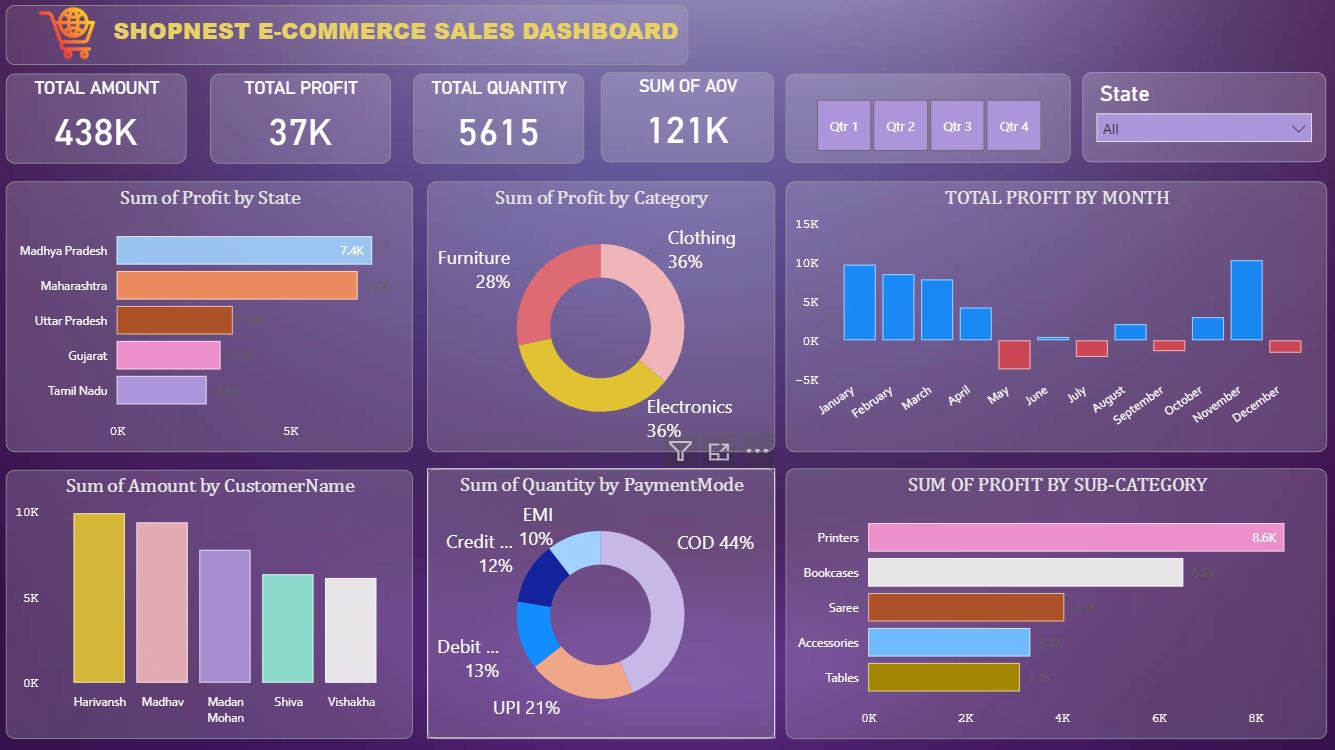

This screenshot's page, from the dashboard's own definition file:
{"tool":"powerbi","page":{"name":"Page 1","canvas":[1280,720],"ordinal":0},"visuals":[{"type":"textbox","box":[9.6,6.8,650.1,57.4],"z":0},{"type":"columnChart","title":"TOTAL PROFIT BY MONTH","fields":{"Category":["Orders.Order Date.Variation.Date Hierarchy.Month"],"Y":["Sum(Details.Profit)"]},"box":[752.1,174.7,515.8,257.9],"z":1000},{"type":"barChart","title":"SUM OF PROFIT BY SUB-CATEGORY","fields":{"Y":["Sum(Details.Profit)"],"Category":["Details.Sub-Category"]},"box":[752.2,447.8,515.9,258],"z":2000},{"type":"donutChart","fields":{"Y":["Sum(Details.Quantity)"],"Category":["Details.PaymentMode"]},"box":[411,447.6,331.1,257.9],"z":3000},{"type":"donutChart","fields":{"Category":["Details.Category"],"Y":["Sum(Details.Profit)"]},"box":[411,174.7,331.1,257.9],"z":4000},{"type":"card","title":"TOTAL AMOUNT","fields":{"Values":["Sum(Details.Amount)"]},"box":[9.6,72.4,172.1,86],"z":5000},{"type":"card","title":"TOTAL PROFIT","fields":{"Values":["Sum(Details.Profit)"]},"box":[203.5,72.4,172.1,86],"z":6000},{"type":"card","title":"TOTAL QUANTITY","fields":{"Values":["Sum(Details.Quantity)"]},"box":[397.4,72.4,162.5,86],"z":7000},{"type":"card","title":"SUM OF AOV ","fields":{"Values":["Sum(Details.AOV)"]},"box":[576.3,71,165.2,86],"z":8000},{"type":"columnChart","fields":{"Category":["Orders.CustomerName"],"Y":["Sum(Details.Amount)"]},"box":[10,449.3,387.7,256.2],"z":9000},{"type":"barChart","fields":{"Y":["Sum(Details.Profit)"],"Category":["Orders.State"]},"box":[10,174.7,387.7,257.9],"z":10000},{"type":"slicer","fields":{"Values":["Orders.Order Date.Variation.Date Hierarchy.Quarter"]},"box":[752.1,71.5,271.2,84.9],"z":11000},{"type":"slicer","fields":{"Values":["Orders.State"]},"box":[1035.2,71,232.2,86],"z":12000},{"type":"image","box":[9.6,6.8,116.1,53.3],"z":13000}]}

Visuals, with their boxes in screenshot pixels (x1, y1, x2, y2), scaled from the page's 1280x720 canvas onto the 1335x750 screenshot:
textbox: bbox(10, 7, 688, 67)
"TOTAL PROFIT BY MONTH" columnChart: bbox(784, 182, 1322, 451)
"SUM OF PROFIT BY SUB-CATEGORY" barChart: bbox(785, 466, 1323, 735)
donutChart - Sum(Details.Quantity) x Details.PaymentMode: bbox(429, 466, 774, 735)
donutChart - Details.Category x Sum(Details.Profit): bbox(429, 182, 774, 451)
"TOTAL AMOUNT" card: bbox(10, 75, 190, 165)
"TOTAL PROFIT" card: bbox(212, 75, 392, 165)
"TOTAL QUANTITY" card: bbox(414, 75, 584, 165)
"SUM OF AOV " card: bbox(601, 74, 773, 164)
columnChart - Orders.CustomerName x Sum(Details.Amount): bbox(10, 468, 415, 735)
barChart - Sum(Details.Profit) x Orders.State: bbox(10, 182, 415, 451)
slicer - Orders.Order Date.Variation.Date Hierarchy.Quarter: bbox(784, 74, 1067, 163)
slicer - Orders.State: bbox(1080, 74, 1322, 164)
image: bbox(10, 7, 131, 63)
